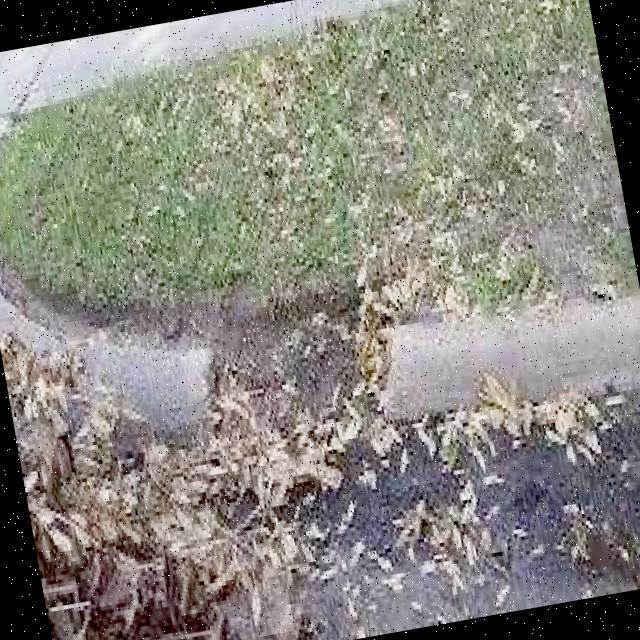curb: (6, 282, 384, 470), (336, 293, 640, 437), (1, 134, 82, 345)
